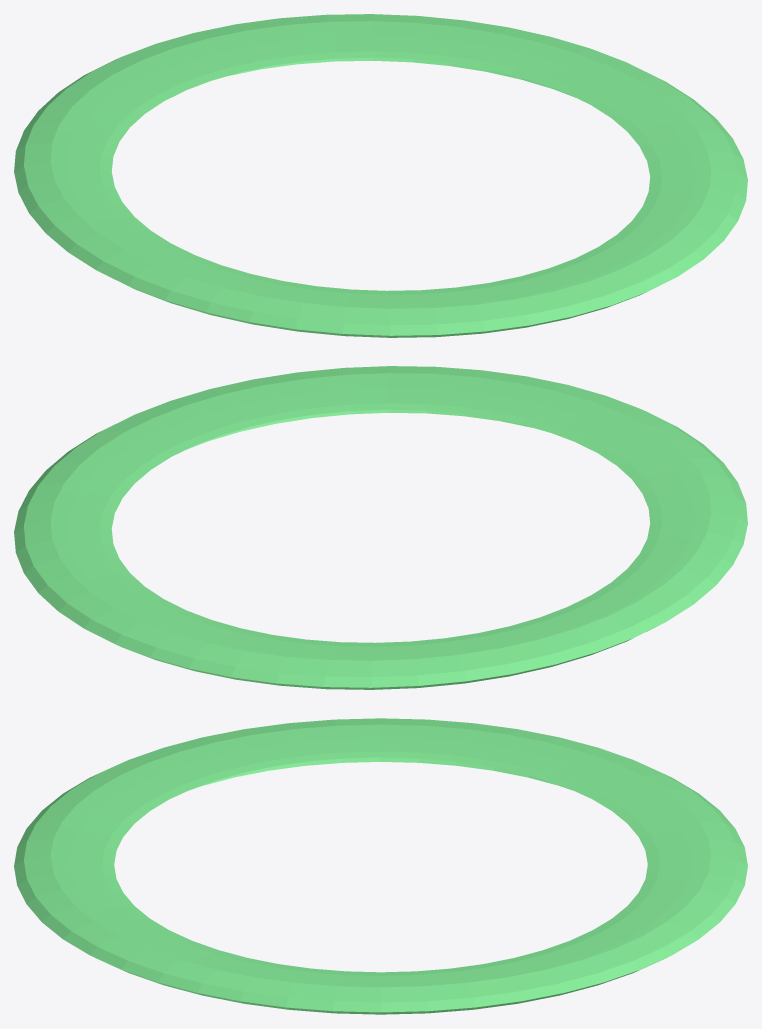
3 views of the same model, one above another, from view 1: azimuth 30°, elevation 25°; view 2: azimuth 150°, elevation 25°; view 3: azimuth 270°, elevation 25° (orthographic). The views are drawn at different scales.
Parts seen in each view (by area): view 1: Torus; view 2: Torus; view 3: Torus.
Boxes of the visible parts, left/top/right/bottom form: Torus: left=14, top=14, right=747, bottom=337; Torus: left=14, top=366, right=747, bottom=689; Torus: left=14, top=718, right=747, bottom=1014.
Bounding box in the file's own units: 110 × 3.98 × 117.
